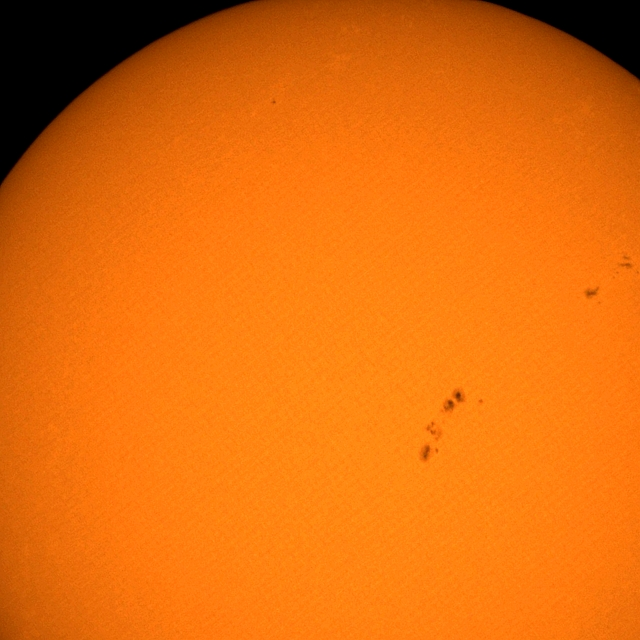sunspot: (419, 423, 442, 464), (610, 256, 640, 281), (440, 389, 467, 415), (425, 417, 445, 444), (583, 286, 602, 306), (270, 98, 277, 106), (478, 398, 484, 405)
